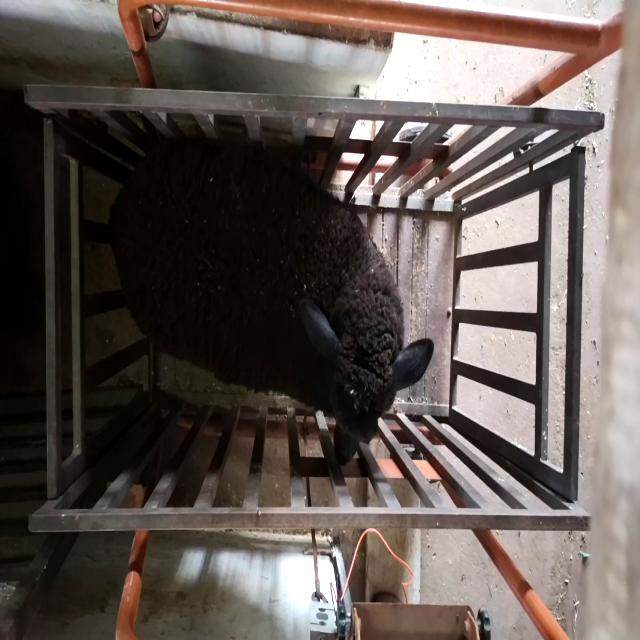sheep: (107, 136, 435, 466)
